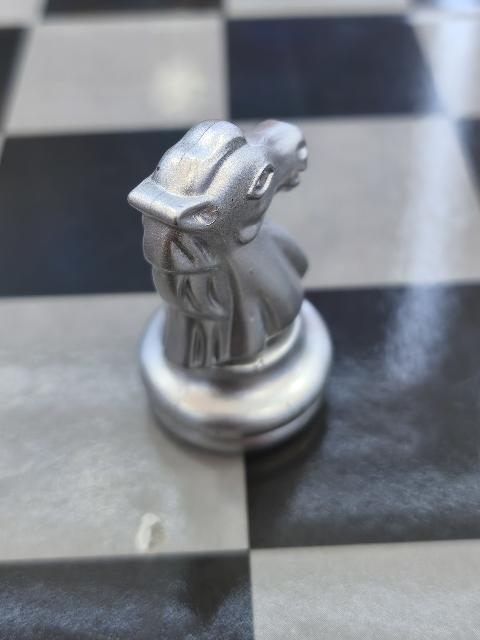white_knight: (128, 116, 333, 448)
